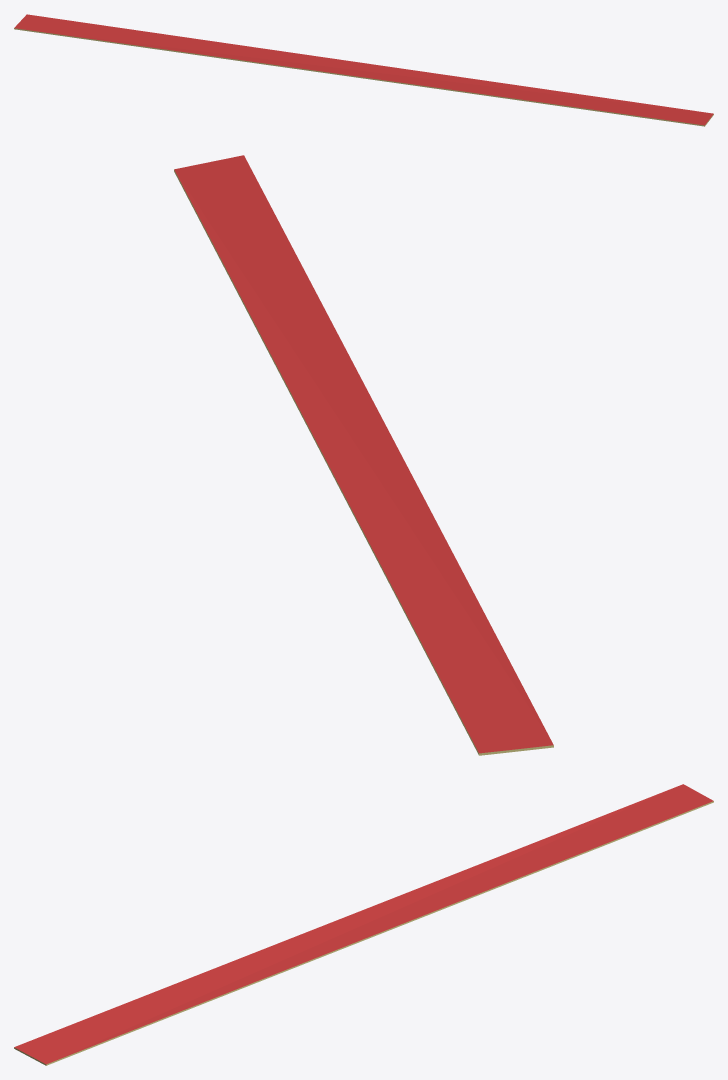
3 views of the same model, one above another, from view 1: azimuth 30°, elevation 25°; view 2: azimuth 150°, elevation 25°; view 3: azimuth 270°, elevation 25° (orthographic). The views are drawn at different scales.
Parts seen in each view (by area): view 1: group_3, group_4; view 2: group_3, group_4; view 3: group_3, group_4.
Part boxes in pixels (bbox=[...]): group_3: bbox=[14, 14, 713, 125]; group_4: bbox=[14, 28, 713, 126]; group_3: bbox=[174, 155, 553, 753]; group_4: bbox=[174, 169, 553, 755]; group_3: bbox=[14, 784, 713, 1064]; group_4: bbox=[14, 801, 713, 1065].
Size of the model in its own units: 39.82 by 43.44 by 0.727.
